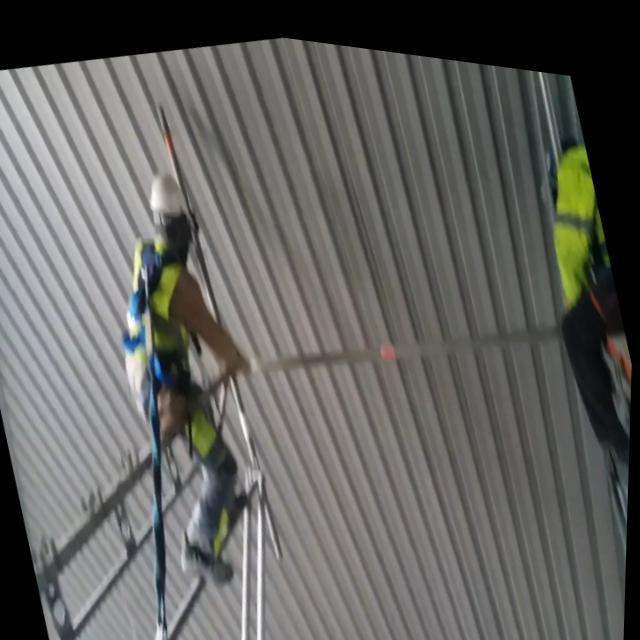belt: (85, 218, 226, 430)
